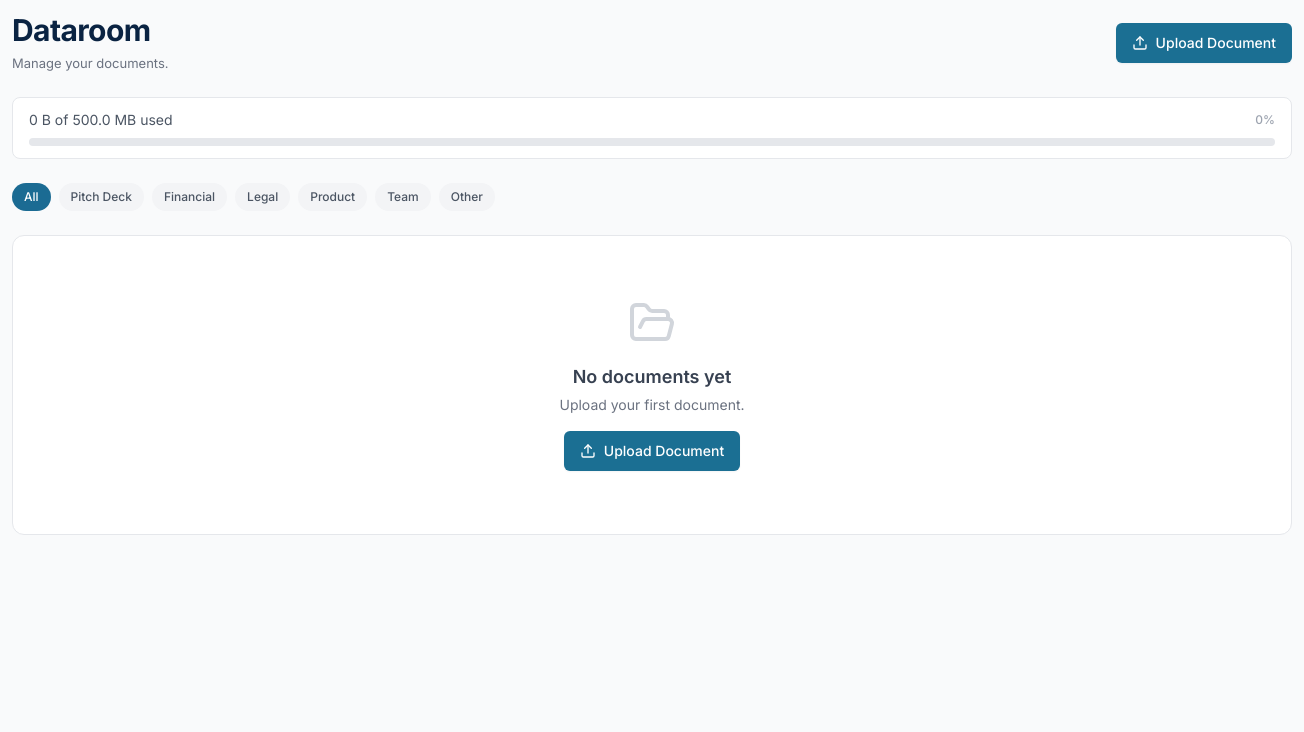
DataroomPage › renders filtered empty state
This screenshot has width=1304, height=732.
Click on a category tab
Click the button "Financial" at {"x": 190, "y": 197}, box [152, 183, 227, 211]
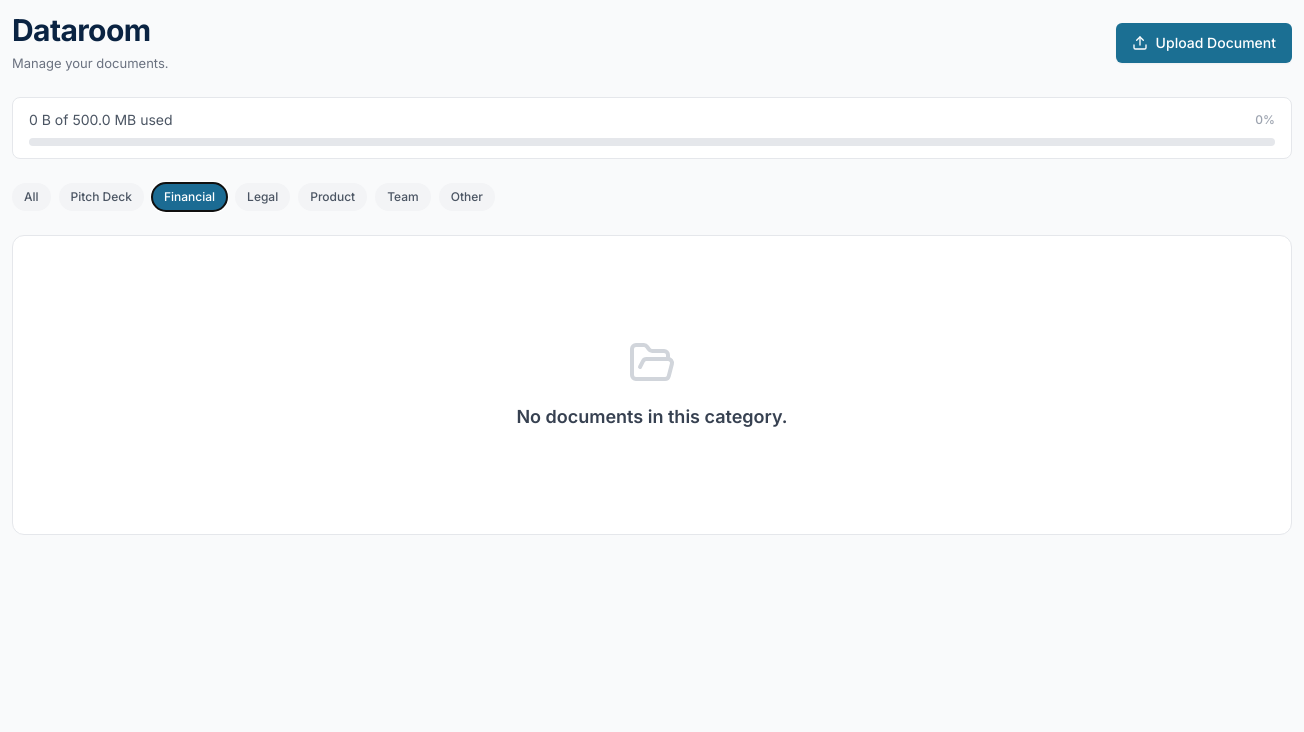
Result: the heading "No documents in this category." is shown at [516, 403, 788, 431]
